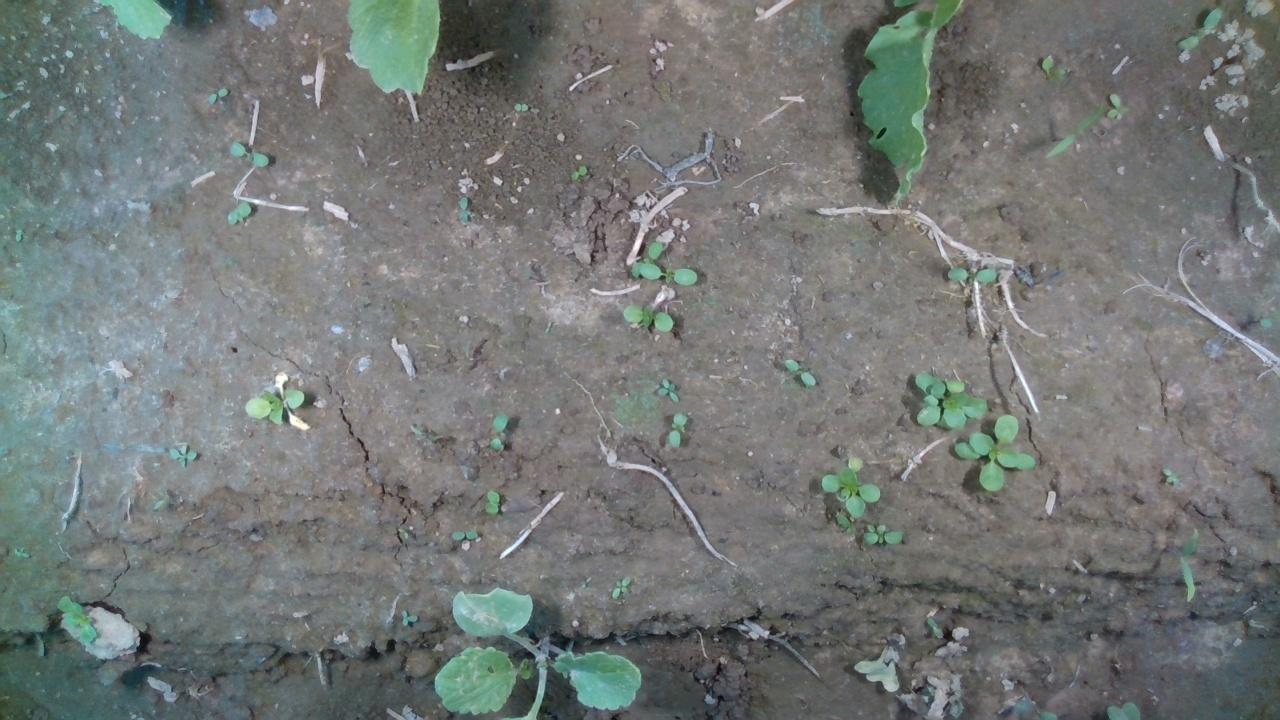weed: (1175, 6, 1223, 50), (228, 139, 269, 168), (782, 357, 816, 387), (859, 521, 903, 543), (486, 409, 509, 451), (665, 408, 688, 449), (167, 441, 198, 468), (944, 266, 996, 282), (654, 376, 678, 403), (1106, 91, 1129, 118), (202, 84, 229, 104), (484, 488, 500, 514), (449, 529, 479, 541), (1159, 466, 1179, 483), (567, 164, 589, 176)
